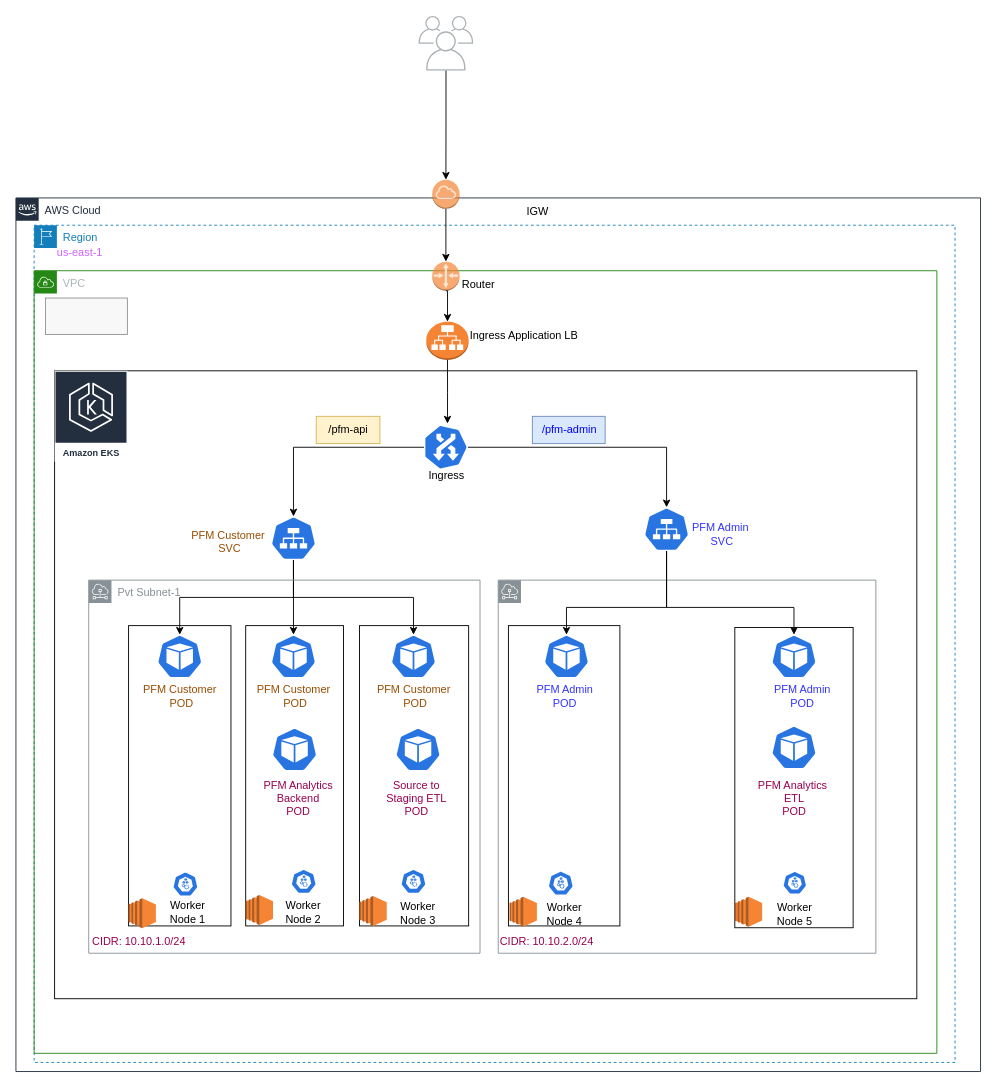
Some shapes in this 996 by 1087 pixel diagram are drawn without their labels. The box of each missing label's shape, as (x1, y1, x2, y2) in pixels:
CIDR 10.10.0.0/16: (45, 297, 127, 334)
Pvt Subnet-2: (497, 579, 876, 953)
users: (418, 15, 473, 70)
